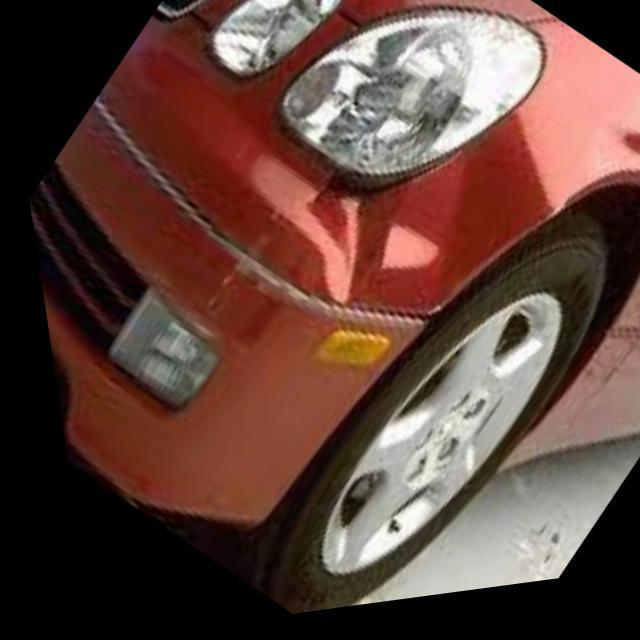dent: (204, 133, 552, 344)
